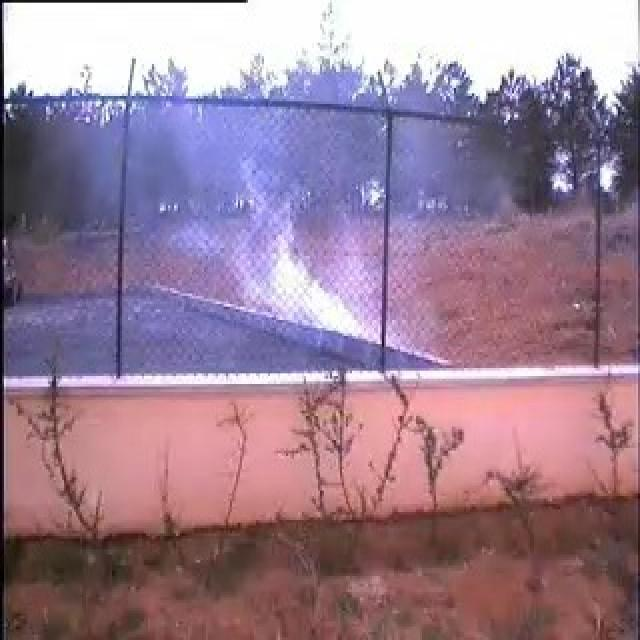Smoke: (171, 150, 406, 350)
